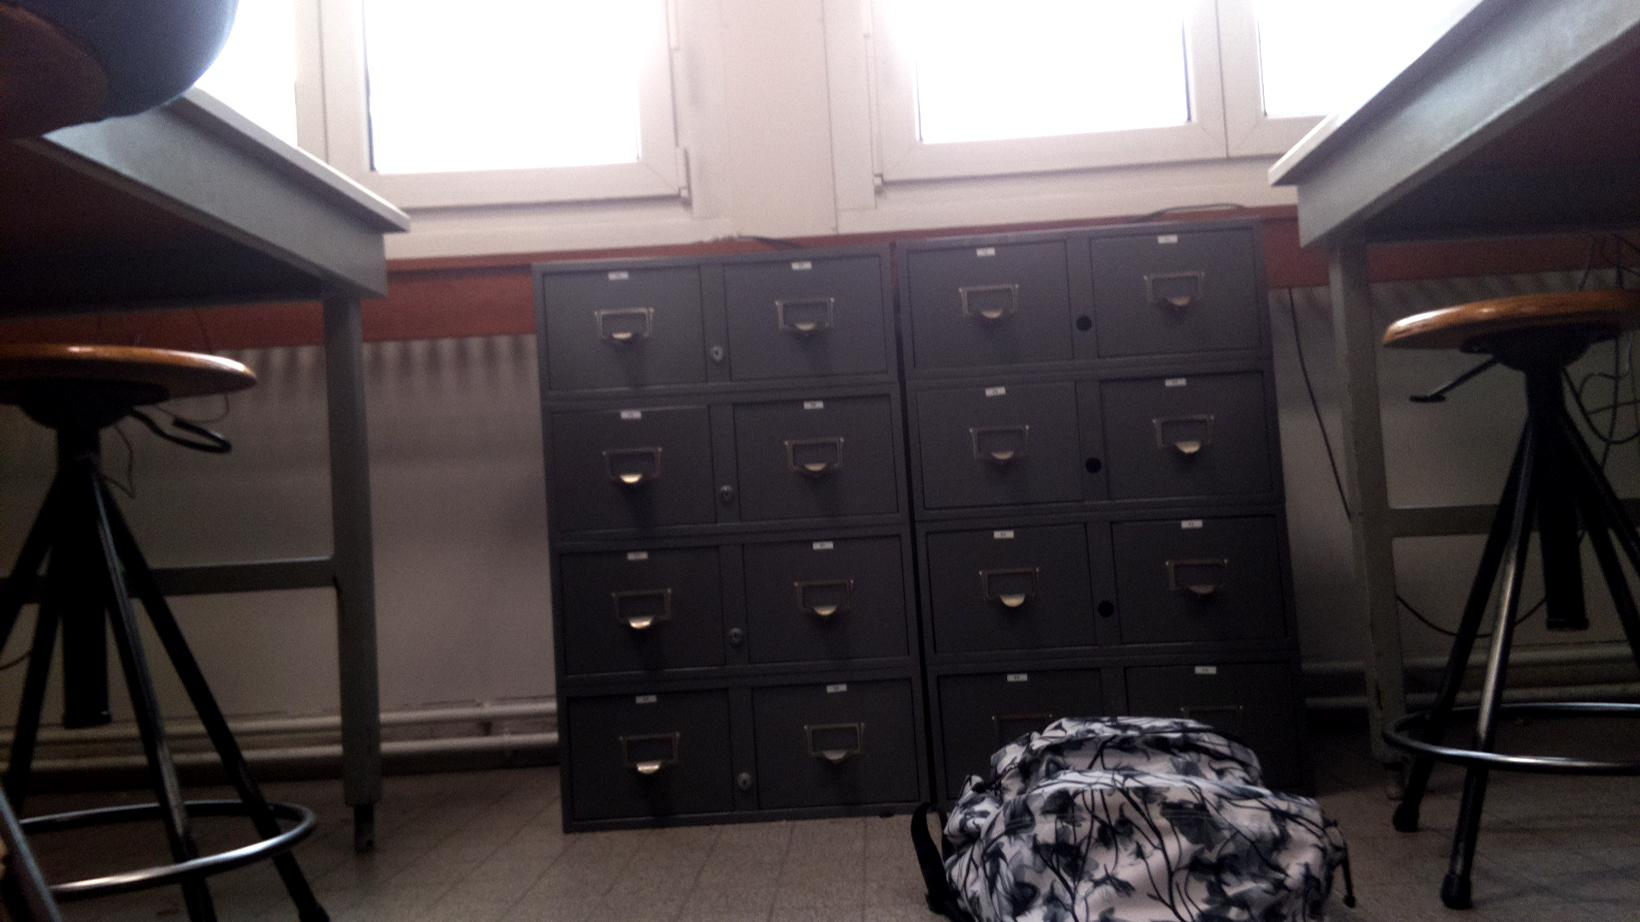big: (900, 706, 1360, 922)
